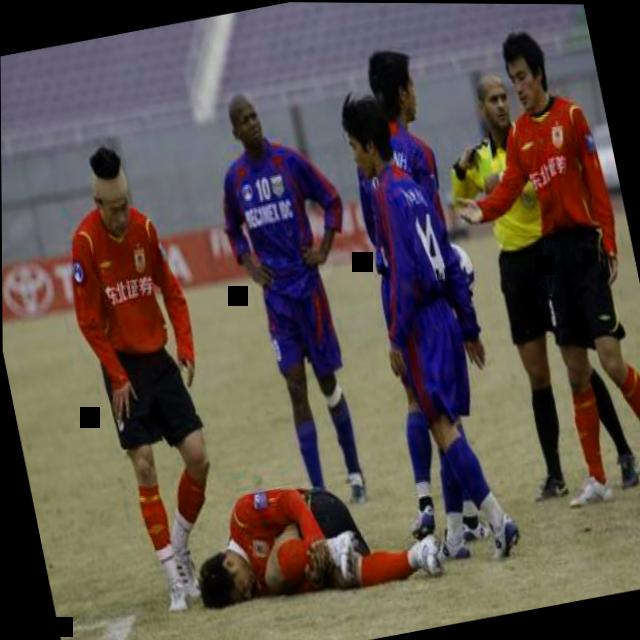Fall-Detected: (176, 444, 451, 631)
